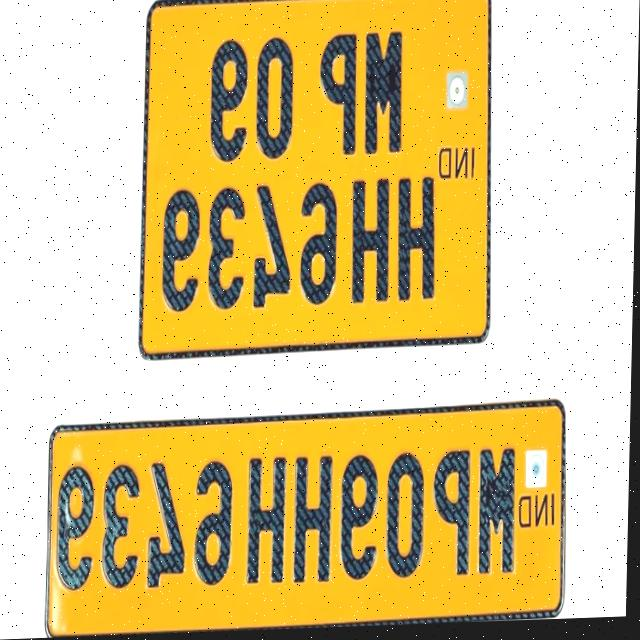plate: (139, 0, 498, 360), (47, 402, 571, 638)
